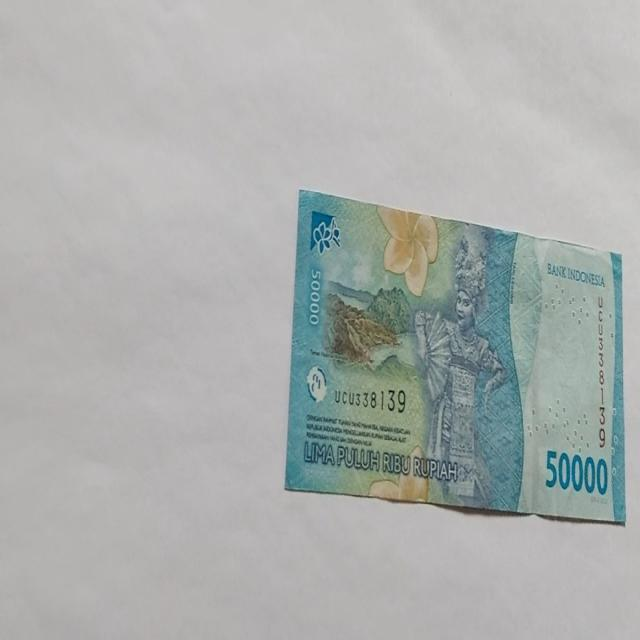lima puluh ribu rupiah: (284, 186, 626, 524)
